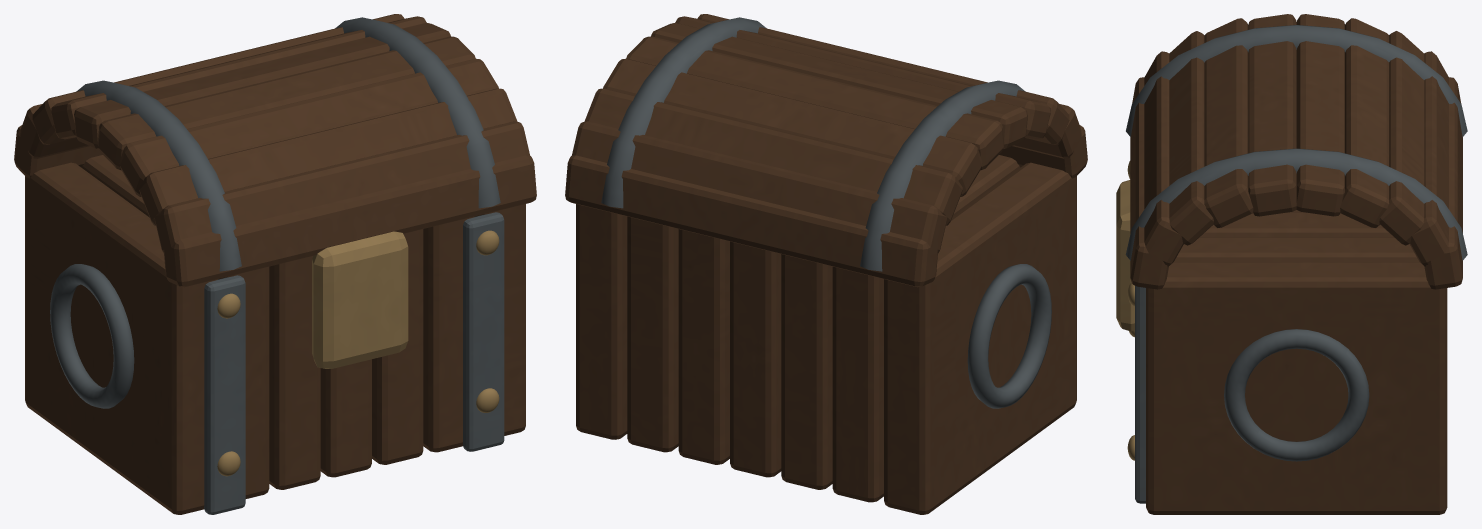
The model's file is breakable_coffer.glb.
The picture shows the model from 3 angles, left to right: view 1: azimuth 30°, elevation 25°; view 2: azimuth 150°, elevation 25°; view 3: azimuth 270°, elevation 25°; orthographic projection. The views are drawn at different scales.
Parts seen in each view (by area): view 1: breakable_coffer; view 2: breakable_coffer; view 3: breakable_coffer.
Boxes of the visible parts, x1=… form: breakable_coffer: x1=14, y1=14, x2=536, y2=514; breakable_coffer: x1=565, y1=14, x2=1087, y2=514; breakable_coffer: x1=1116, y1=14, x2=1467, y2=514.
Bounding box in the file's own units: 0.6644 × 0.5854 × 0.5366.
4 materials, 4 textured.
